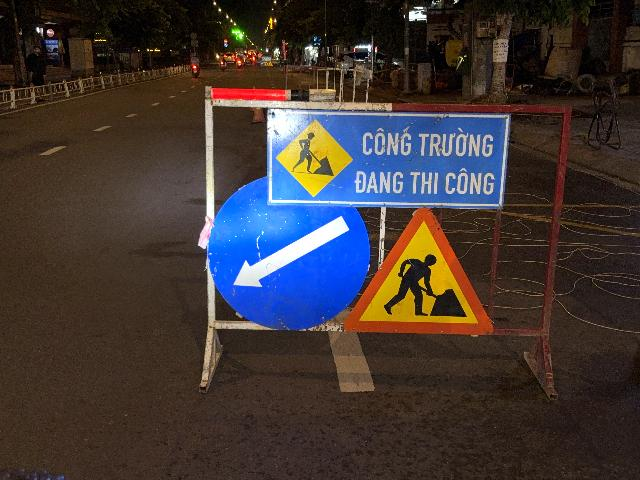cong-truong-dang-thi-cong: (342, 207, 494, 335)
huong-phai-di-vong-chuong-ngai-vat: (208, 176, 370, 331)
